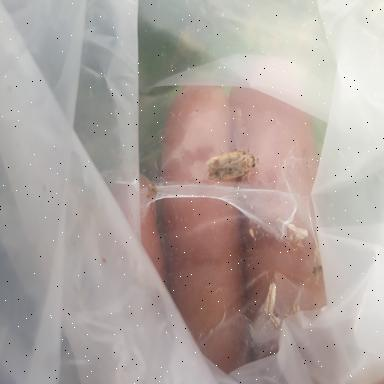pbw: (207, 144, 260, 184)
